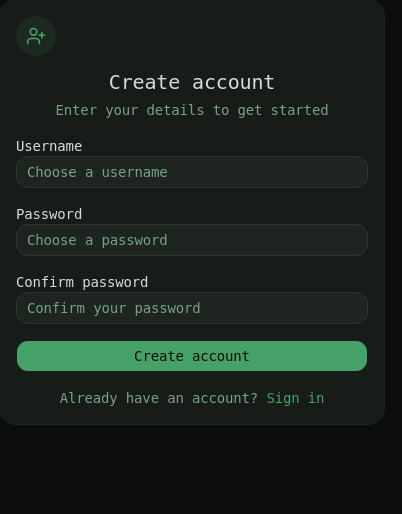
Test: register page › shows validation errors for empty fields
The width and height of the screenshot is (402, 514).
Click the button "Create account" at (192, 356), box [16,340,368,372]
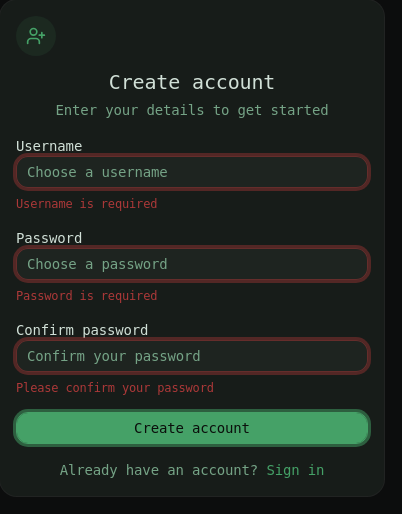
Now the text "Username is required" is shown, box [16,197,157,211]
Now the text "Password is required" is shown, box [16,289,157,303]
Now the text "Please confirm your password" is shown, box [16,381,214,395]
